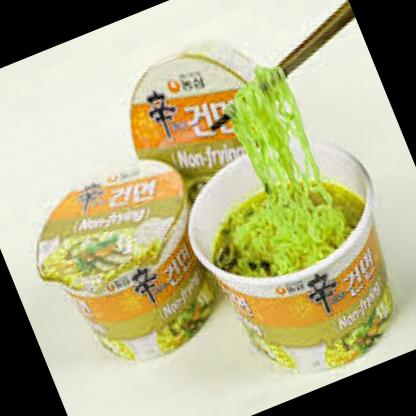Ramen: (174, 120, 416, 394), (24, 144, 238, 382)
